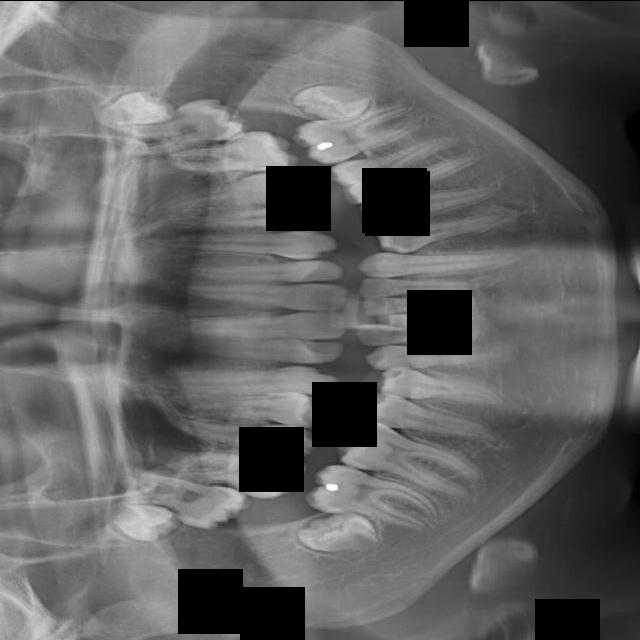3M ESPE Implant: (101, 500, 182, 546)
AGS Medikal Implant: (289, 94, 431, 171)
AMerOss Implant: (326, 125, 483, 211)
Amalgam filling: (117, 468, 253, 536)
Anthogyr Implant: (357, 177, 504, 230)
Bicon Implant: (375, 209, 513, 256)
BioHorizons Implant: (357, 251, 526, 277)
BioLife Implant: (359, 277, 482, 297)
Biomet 3i Implant: (360, 290, 482, 316)
Blue Sky Bio Implant: (374, 306, 475, 329)
Camlog Implant: (355, 322, 484, 350)
Caries: (179, 259, 345, 287)
Composite filling: (364, 341, 502, 369)
Cowellmedi Implant: (376, 366, 505, 406)
Crown: (361, 386, 504, 461)
DENTSPLY Implant: (165, 443, 309, 502)
Dentatus Implant: (332, 413, 488, 507)
Dentis Implant: (301, 456, 446, 546)
Dentium Implant: (366, 550, 367, 550)
Euroteknika Implant: (166, 403, 321, 461)
Filling: (161, 377, 331, 430)
Frontier Implant: (135, 364, 337, 395)
Hiossen Implant: (137, 227, 340, 265)
Implant: (168, 311, 347, 340)
Implant Direct: (176, 337, 346, 363)
Keystone Dental Implant: (166, 279, 349, 311)
MIS Implant: (170, 196, 325, 246)
Mandible: (151, 165, 305, 221)
Maxilla: (164, 128, 300, 174)
Megagen Implant: (115, 90, 250, 160)
Neodent Implant: (91, 88, 174, 126)
Neoss Implant: (289, 71, 377, 127)
